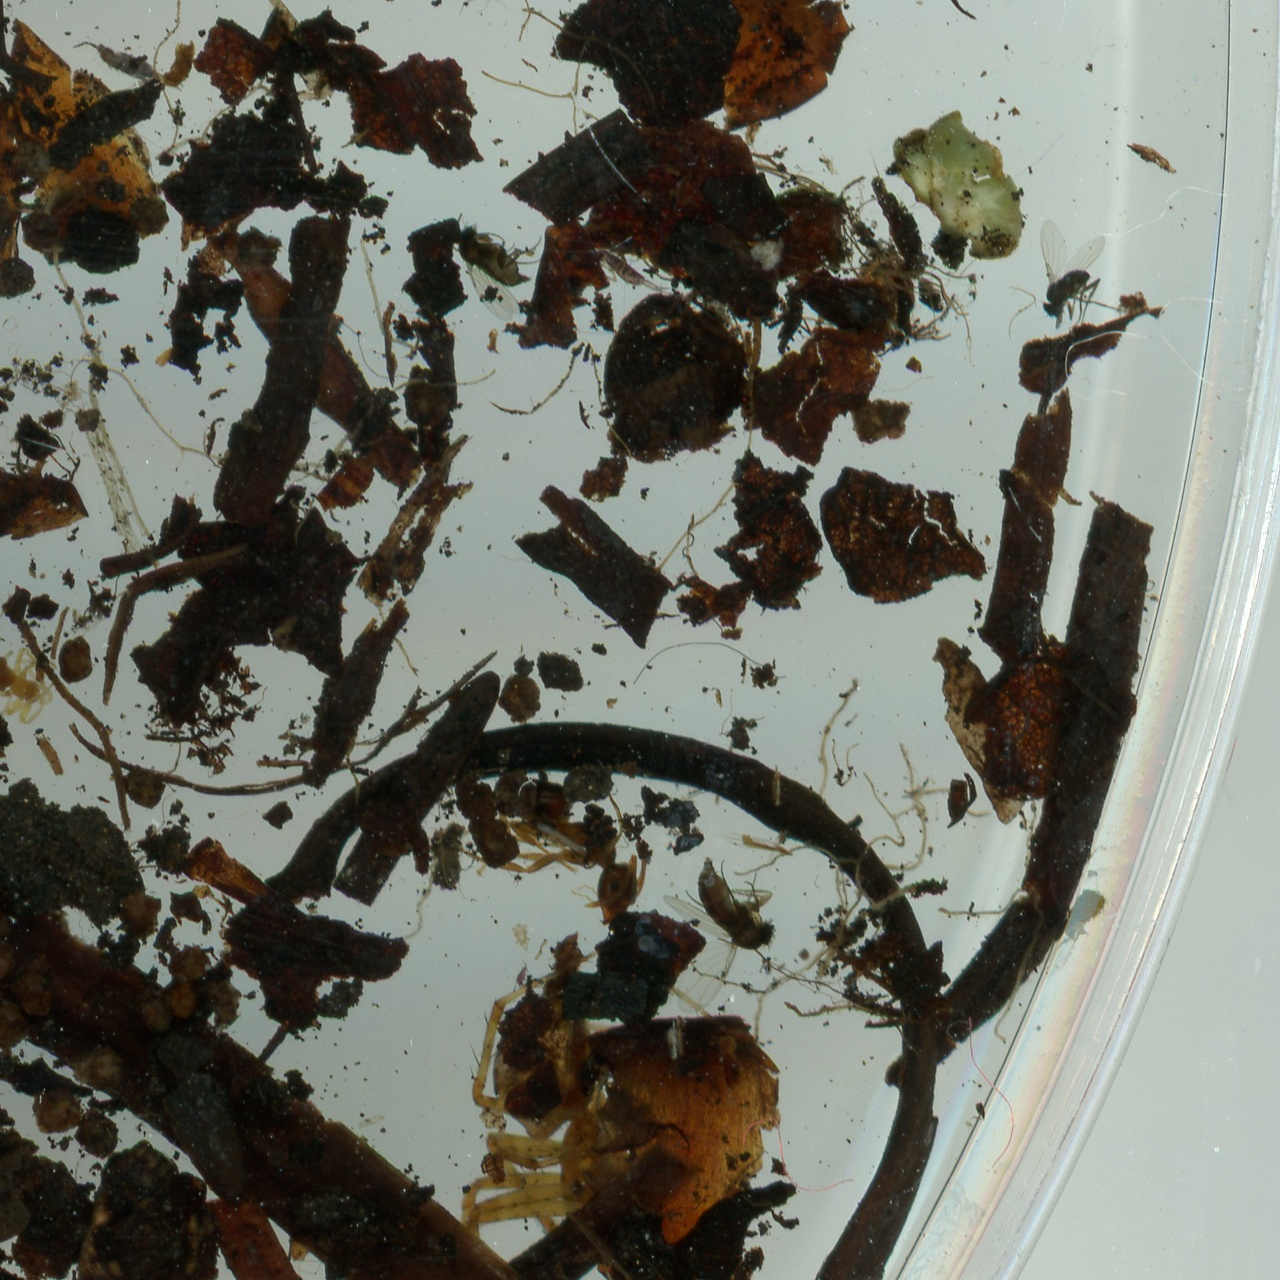arthropod: (461, 961, 664, 1274), (467, 777, 648, 926), (665, 850, 778, 1014), (459, 206, 534, 323), (1040, 218, 1117, 330), (0, 650, 58, 723), (73, 39, 164, 85), (591, 247, 668, 291)
